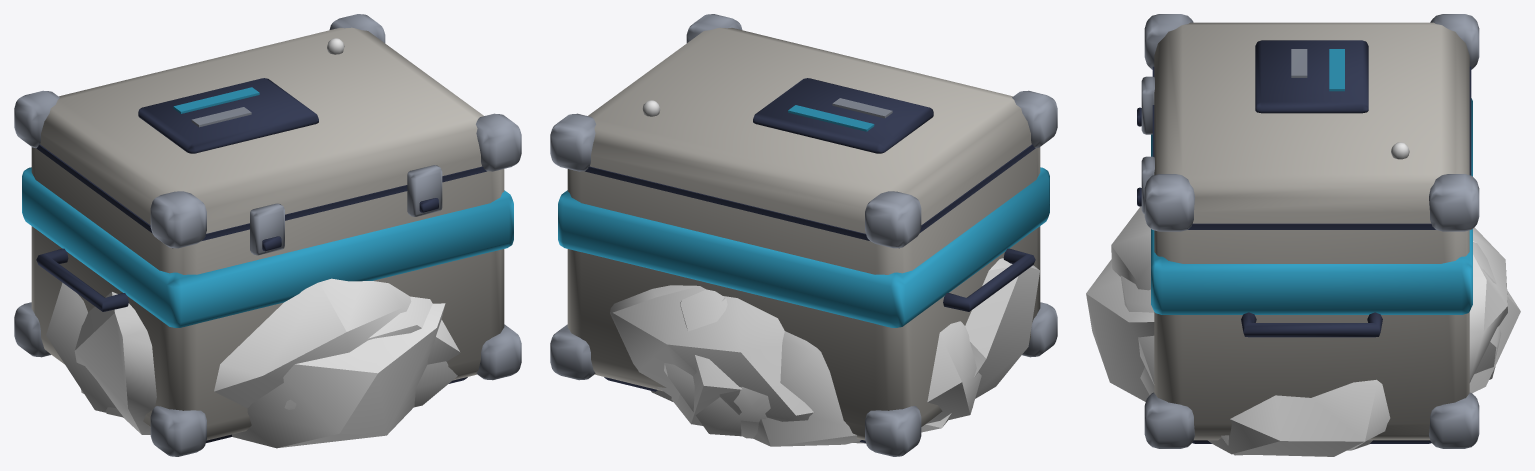
File: props.glb
The picture shows the model from 3 angles, left to right: view 1: azimuth 30°, elevation 25°; view 2: azimuth 150°, elevation 25°; view 3: azimuth 270°, elevation 25°; orthographic projection. The views are drawn at different scales.
Visible parts, largest first — view 1: crate_a, rock_b, rock_d, rock_a, rock_c; view 2: crate_a, rock_b, rock_a, rock_c, rock_d; view 3: crate_a, rock_b, rock_d, rock_c.
Boxes of the visible parts, box(x1,y1,x2,y2) form: crate_a: box(14, 14, 521, 456); rock_b: box(74, 278, 457, 434); rock_d: box(232, 303, 445, 448); rock_a: box(46, 282, 116, 412); rock_c: box(105, 296, 460, 434); crate_a: box(550, 14, 1057, 456); rock_b: box(610, 258, 1039, 443); rock_a: box(651, 321, 981, 446); rock_c: box(671, 289, 972, 425); rock_d: box(664, 363, 770, 436); crate_a: box(1137, 14, 1479, 448); rock_b: box(1111, 206, 1507, 456); rock_d: box(1086, 259, 1501, 401); rock_c: box(1120, 241, 1520, 393).
Size of the model in its own units: 1.52 by 1.01 by 1.38.
